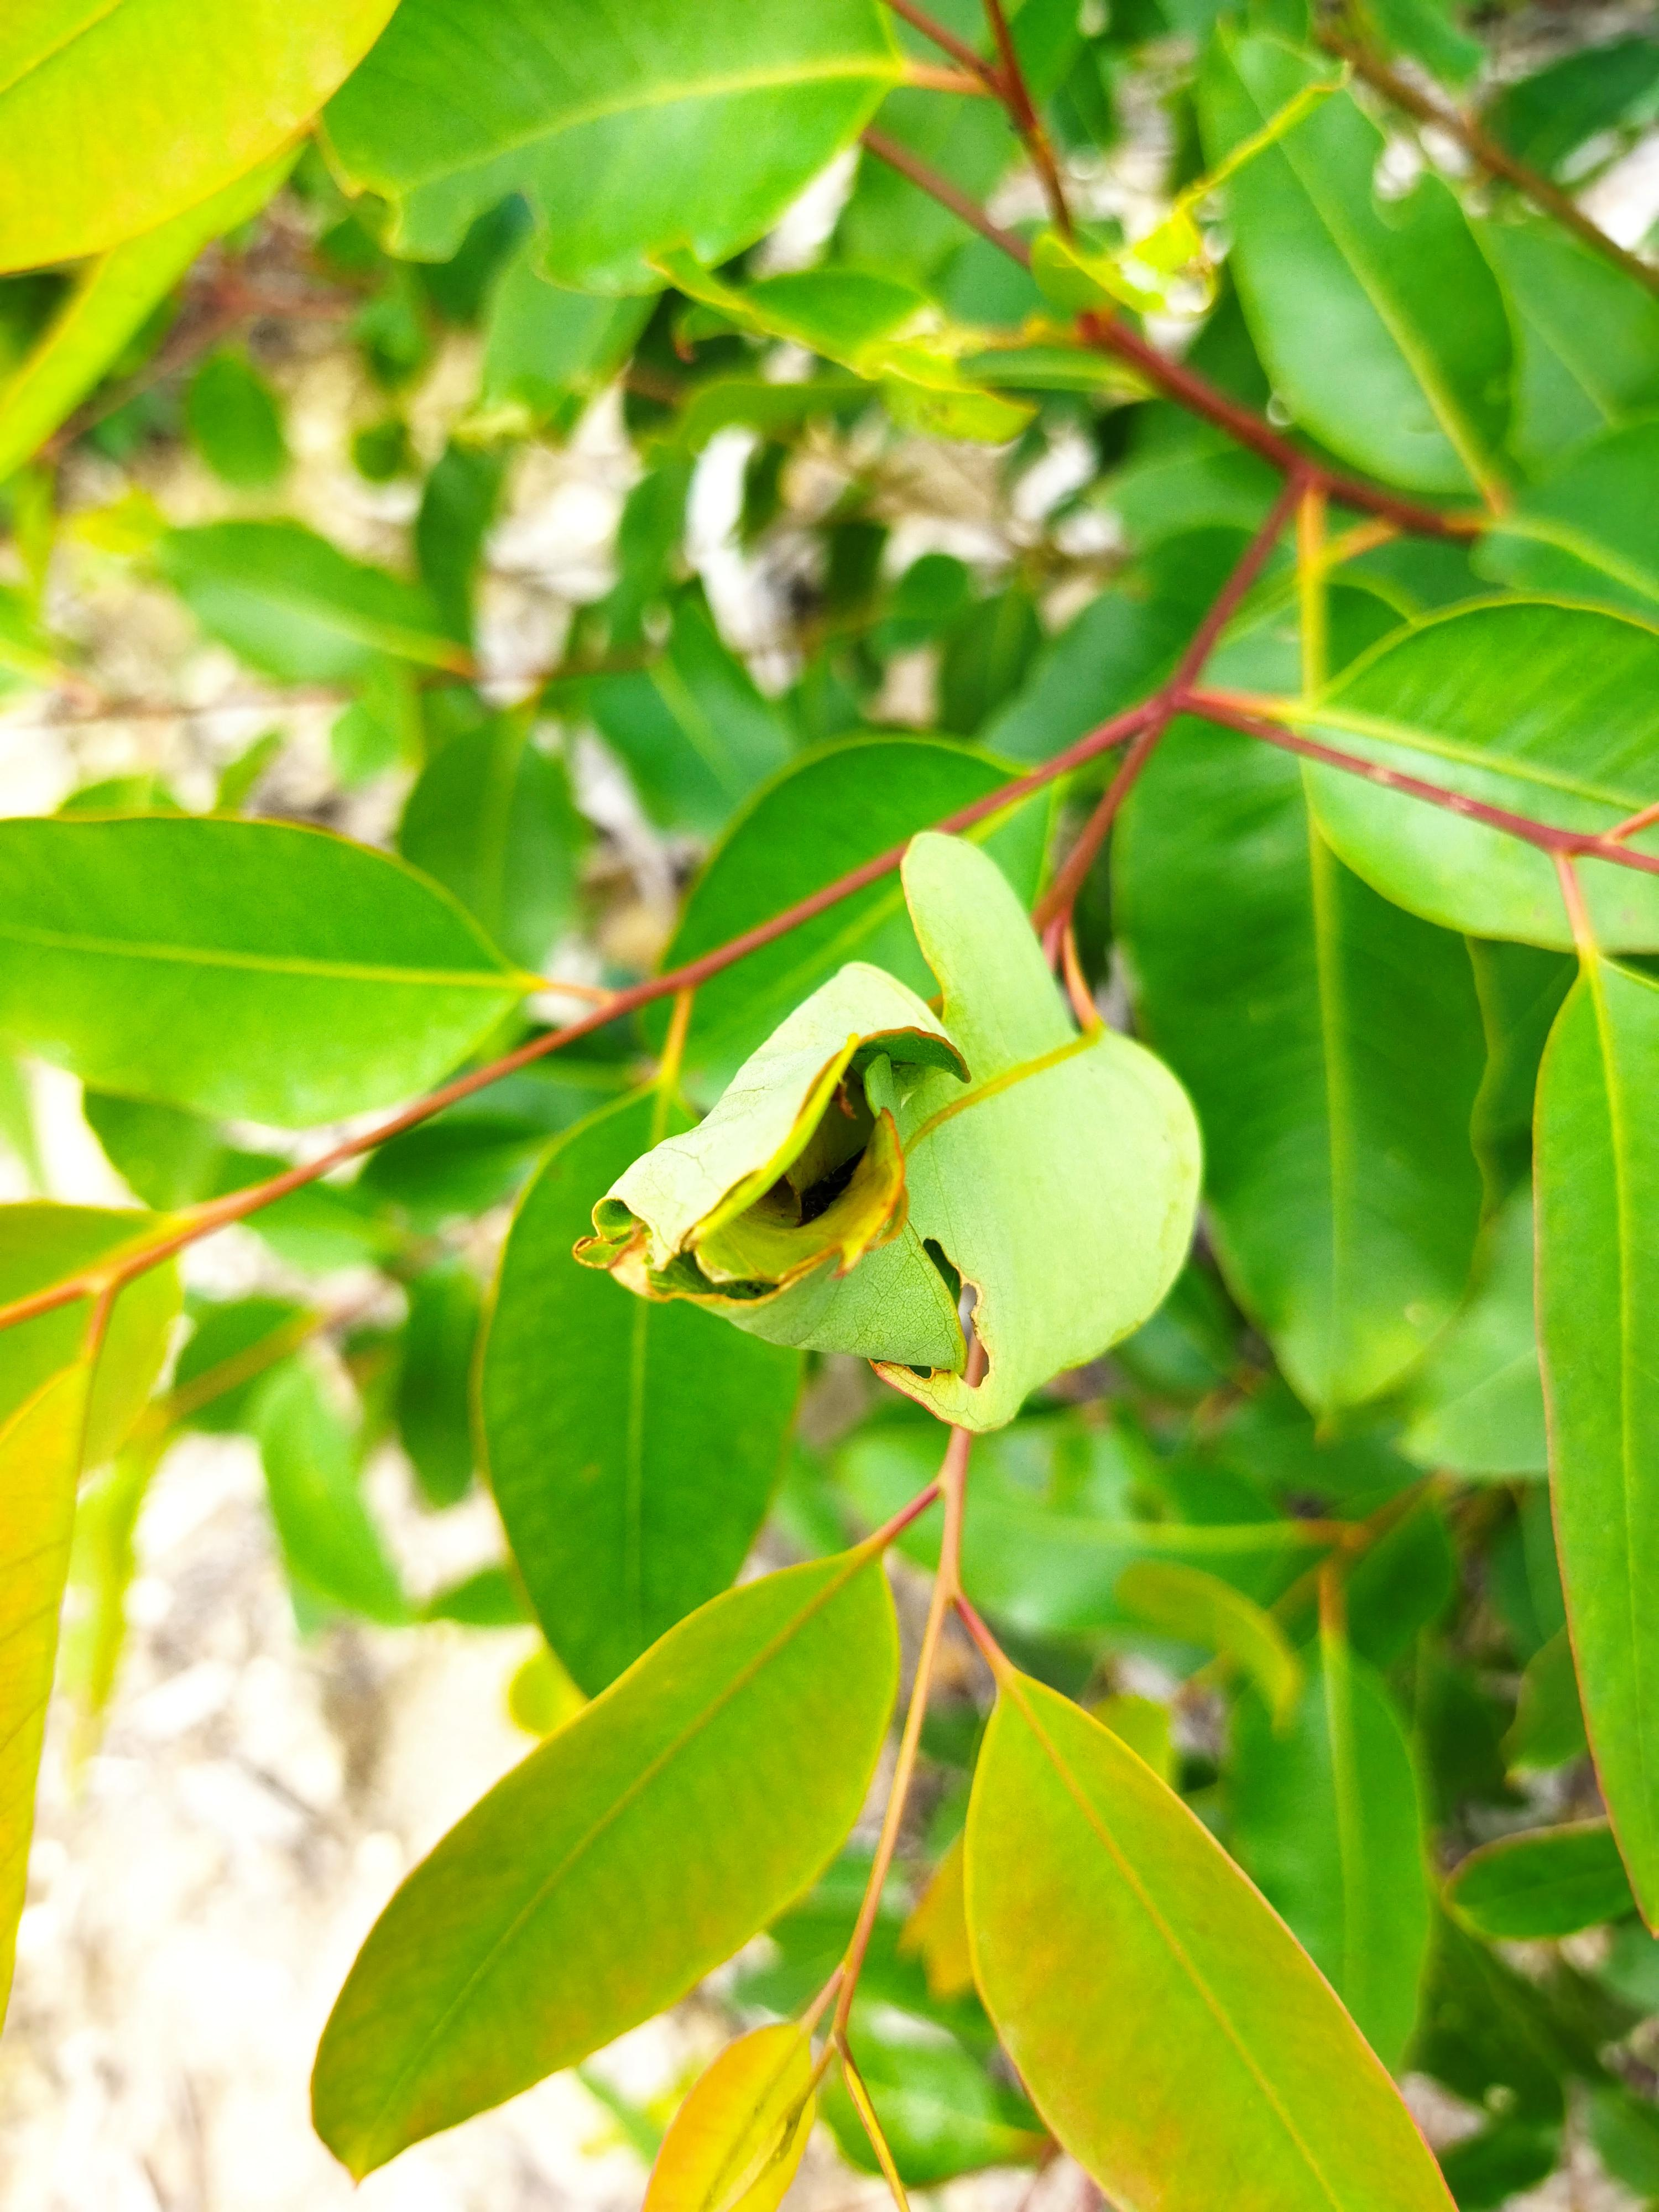Leaf Roller - Leaf: (648, 907, 1129, 1416)
